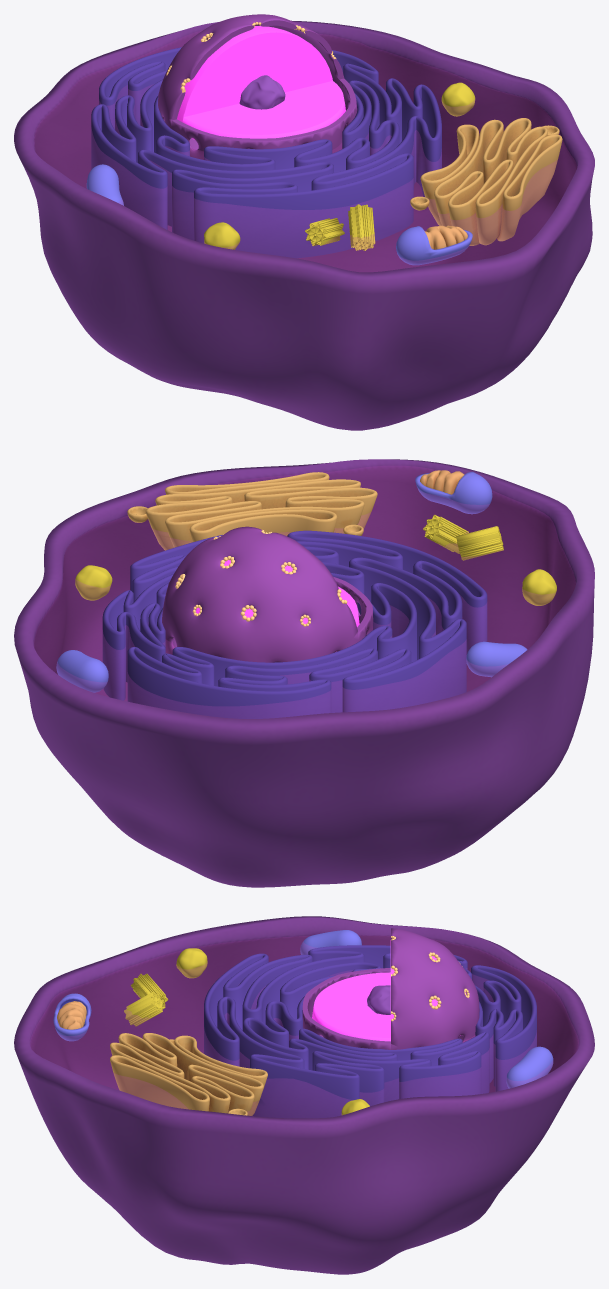
The model's file is celula-animal.glb.
The picture shows the model from 3 angles, top to bottom: view 1: azimuth 30°, elevation 25°; view 2: azimuth 150°, elevation 25°; view 3: azimuth 270°, elevation 25°; orthographic projection. The views are drawn at different scales.
Visible parts, largest first — view 1: Sphere, BezierCurve, Sphere.001, Roundcube, BezierCurve.002, Icosphere, Roundcube.000, Sphere.002, Roundcube.001, Sphere.005; view 2: Sphere, BezierCurve, Sphere.001, Icosphere, BezierCurve.002, Sphere.002, Roundcube.000, Icosphere.002, Sphere.005; view 3: Sphere, BezierCurve, Sphere.001, Icosphere, BezierCurve.002, Roundcube, Sphere.002, Roundcube.000, Sphere.005, Roundcube.001.
Boxes of the visible parts, left/top/right/bottom form: Sphere: left=14, top=20, right=594, bottom=430; BezierCurve: left=91, top=47, right=441, bottom=258; Sphere.001: left=35, top=31, right=576, bottom=271; Roundcube: left=177, top=26, right=345, bottom=139; BezierCurve.002: left=410, top=118, right=562, bottom=245; Icosphere: left=158, top=14, right=357, bottom=159; Roundcube.000: left=204, top=82, right=475, bottom=250; Sphere.002: left=86, top=164, right=472, bottom=265; Roundcube.001: left=239, top=75, right=285, bottom=109; Sphere.005: left=424, top=225, right=467, bottom=249; Sphere: left=14, top=459, right=594, bottom=887; BezierCurve: left=102, top=530, right=487, bottom=718; Sphere.001: left=34, top=466, right=575, bottom=718; Icosphere: left=162, top=526, right=373, bottom=662; BezierCurve.002: left=127, top=472, right=377, bottom=550; Sphere.002: left=56, top=471, right=527, bottom=692; Roundcube.000: left=75, top=514, right=556, bottom=605; Icosphere.002: left=175, top=530, right=347, bottom=626; Sphere.005: left=420, top=470, right=464, bottom=494; Sphere: left=14, top=916, right=594, bottom=1274; BezierCurve: left=204, top=945, right=536, bottom=1118; Sphere.001: left=31, top=936, right=578, bottom=1117; Icosphere: left=302, top=928, right=479, bottom=1049; BezierCurve.002: left=110, top=1033, right=267, bottom=1115; Roundcube: left=312, top=940, right=466, bottom=1041; Sphere.002: left=53, top=930, right=553, bottom=1088; Roundcube.000: left=124, top=948, right=369, bottom=1115; Sphere.005: left=57, top=1001, right=86, bottom=1029; Roundcube.001: left=367, top=985, right=390, bottom=1014.
Bounding box in the file's own units: 5.96 × 3.98 × 7.05.
Materials: 11 (8 with a texture image).
